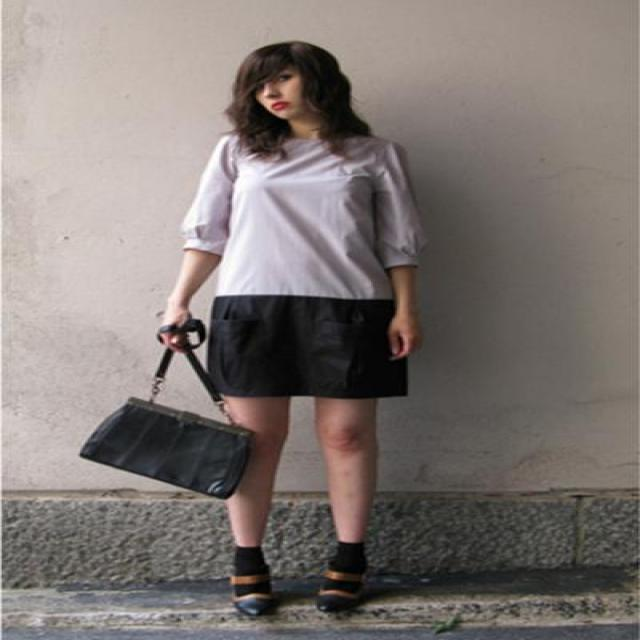bag: (80, 323, 246, 498)
shirt: (173, 125, 414, 306)
shoe: (232, 569, 373, 622)
skirt: (182, 294, 406, 401)
